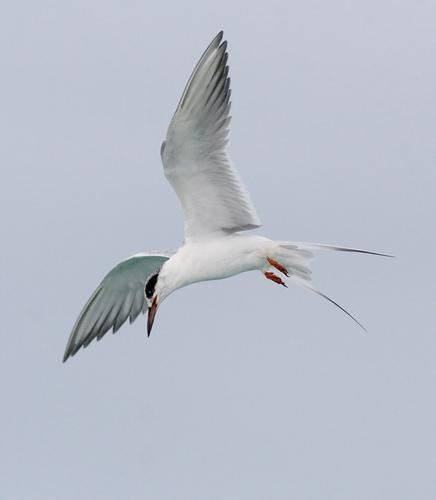bird: (64, 34, 396, 363)
